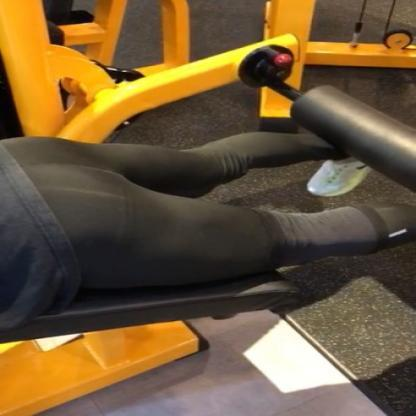reg curl machine: (0, 36, 416, 414)
